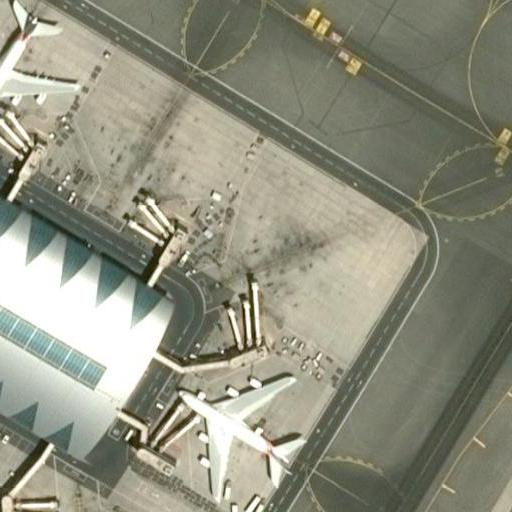Aircraft: (163, 371, 312, 494), (0, 0, 85, 133)
